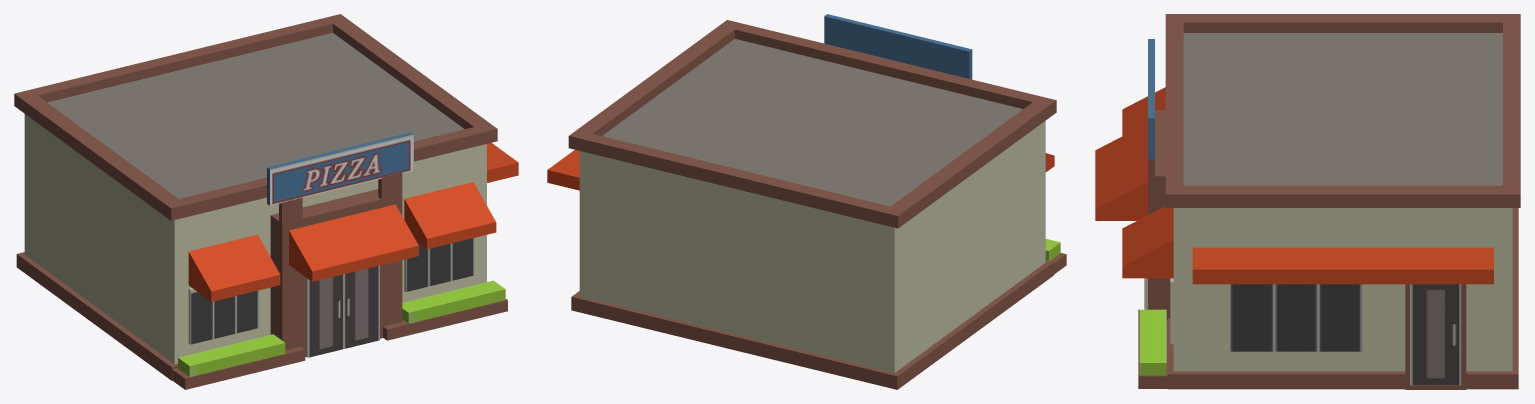
The model's file is Building_Pizza.fbx.
The picture shows the model from 3 angles, left to right: view 1: azimuth 30°, elevation 25°; view 2: azimuth 150°, elevation 25°; view 3: azimuth 270°, elevation 25°; orthographic projection. The views are drawn at different scales.
Parts seen in each view (by area): view 1: Building_Pizza1; view 2: Building_Pizza1; view 3: Building_Pizza1.
Boxes of the visible parts, x1,y1,x2,y2 form: Building_Pizza1: (14,14,518,389); Building_Pizza1: (547,14,1066,389); Building_Pizza1: (1095,14,1520,389).
Bounding box in the file's own units: 1497 × 780 × 1357.
